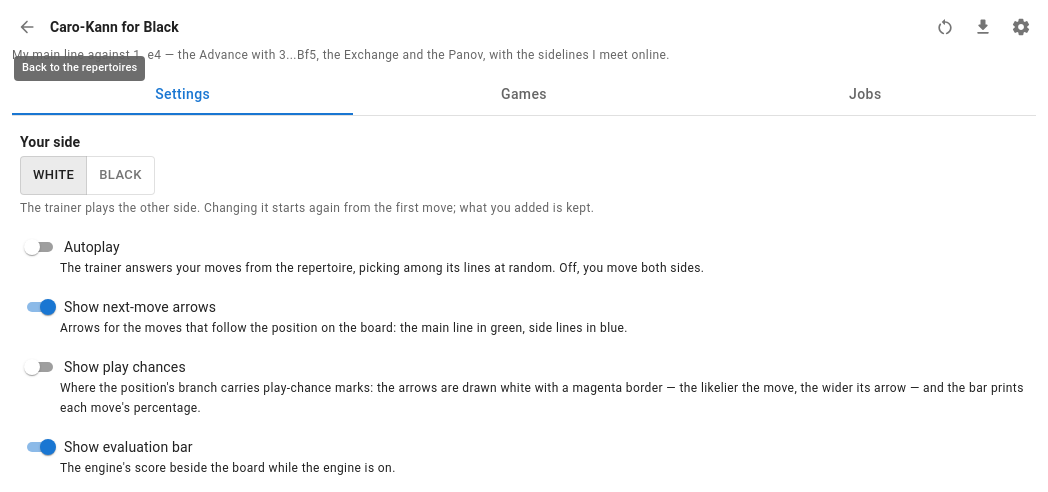
it: RepertoireDetails (CTA-206) › says repertoire jobs are coming, on Jobs, where the screen gives none
This screenshot has width=1048, height=492.
Click the tab "Jobs": click(865, 95) [695, 74, 1036, 115]
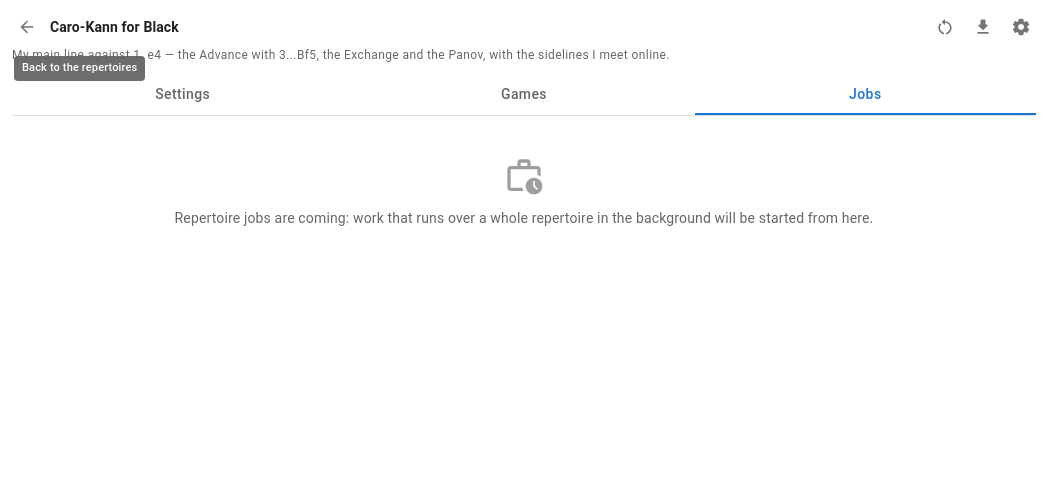
Result: the element with test id "probe-jobs-empty" shows "Repertoire jobs are coming" at [175, 210, 874, 226]
